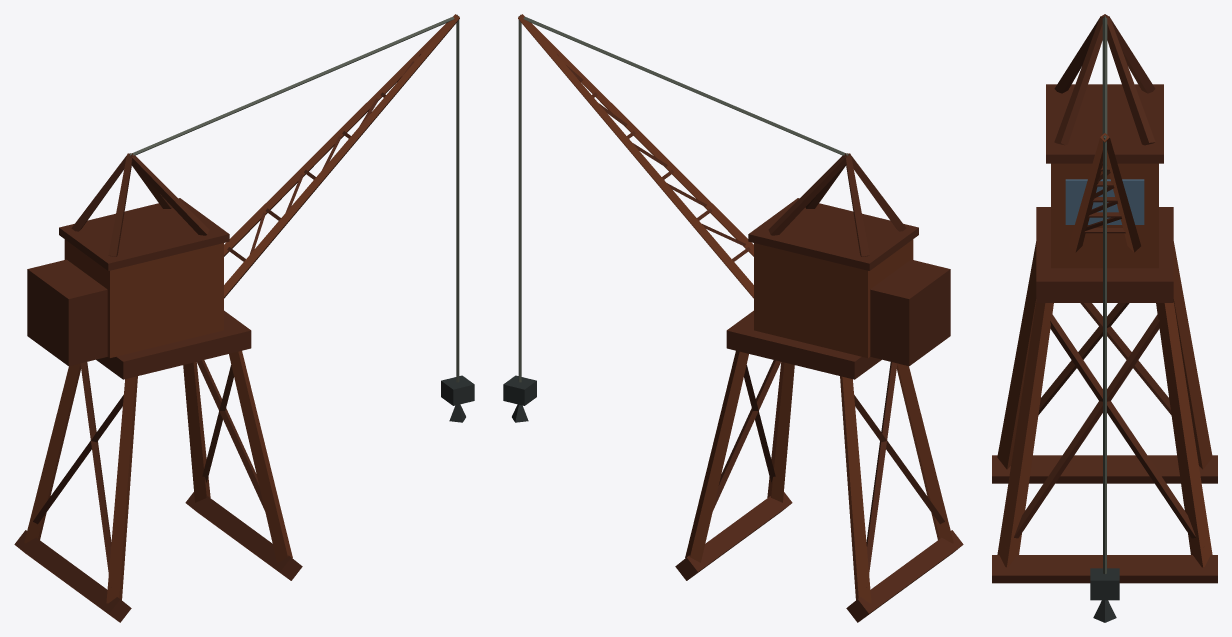
File: dock_crane.glb
3 views of the same model, side by side, from view 1: azimuth 30°, elevation 25°; view 2: azimuth 150°, elevation 25°; view 3: azimuth 270°, elevation 25° (orthographic). The views are drawn at different scales.
Visible parts, largest first — view 1: dock_crane2; view 2: dock_crane2; view 3: dock_crane2.
Part boxes in pixels (left/top/right/bottom): dock_crane2: left=14, top=14, right=474, bottom=622; dock_crane2: left=503, top=14, right=963, bottom=622; dock_crane2: left=992, top=14, right=1217, bottom=622.
Bounding box in the file's own units: 8.26 × 9.03 × 3.22.
